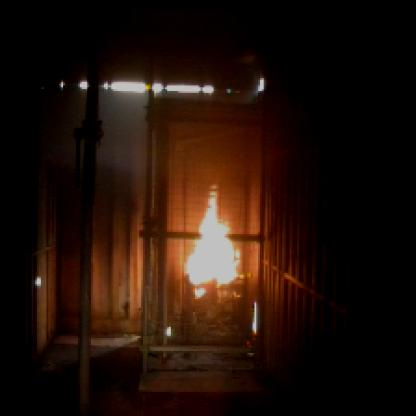Fire: (180, 192, 242, 294)
